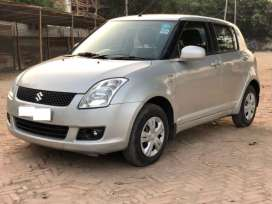license_plate: (17, 103, 54, 122)
